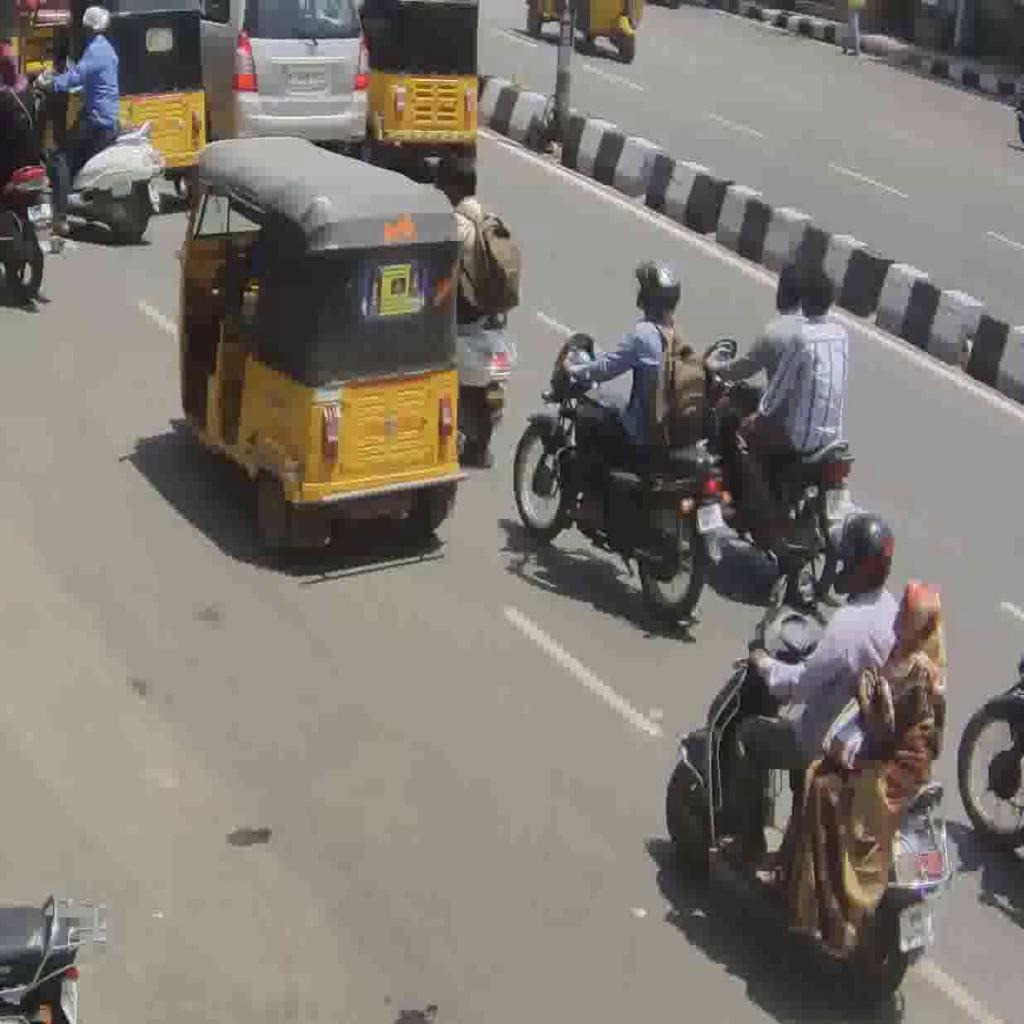helmet: (664, 601, 953, 1002), (512, 330, 730, 626), (701, 334, 856, 606), (31, 62, 165, 246), (1, 163, 59, 304)
